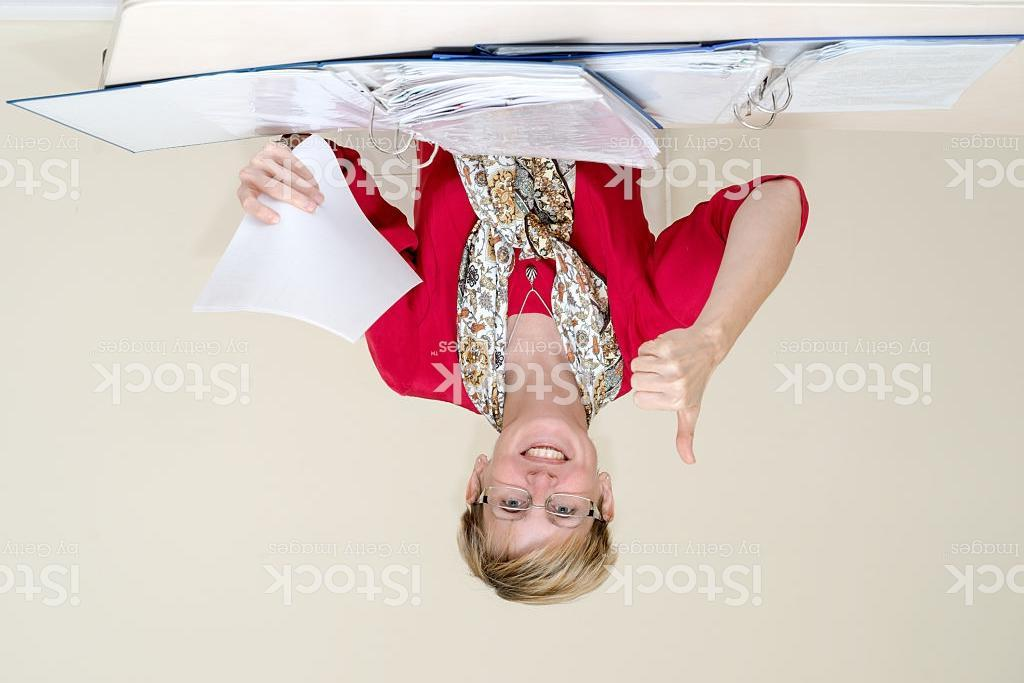thumbsdown: (628, 328, 707, 466)
